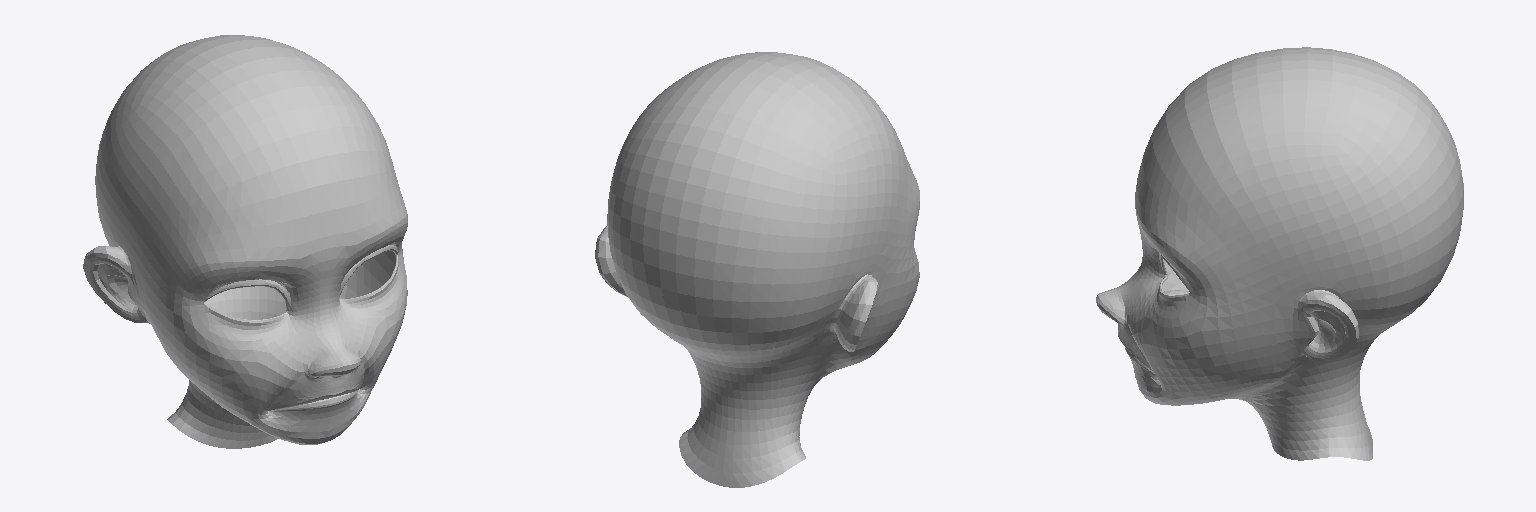
The model's file is sad.obj.
3 views of the same model, side by side, from view 1: azimuth 30°, elevation 25°; view 2: azimuth 150°, elevation 25°; view 3: azimuth 270°, elevation 25° (orthographic).
Visible parts, largest first — view 1: Mesh; view 2: Mesh; view 3: Mesh.
Part boxes in pixels (left/top/right/bottom): Mesh: left=83, top=35, right=407, bottom=448; Mesh: left=595, top=52, right=919, bottom=487; Mesh: left=1096, top=47, right=1463, bottom=460.
Size of the model in its own units: 23.75 by 32.31 by 27.53.